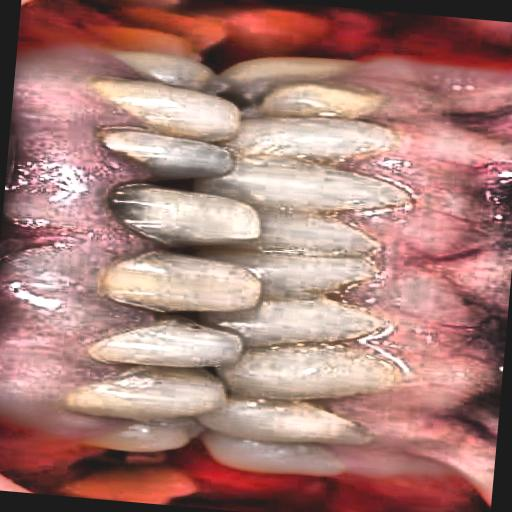Gingivitis: (313, 42, 512, 508), (0, 0, 165, 497)
